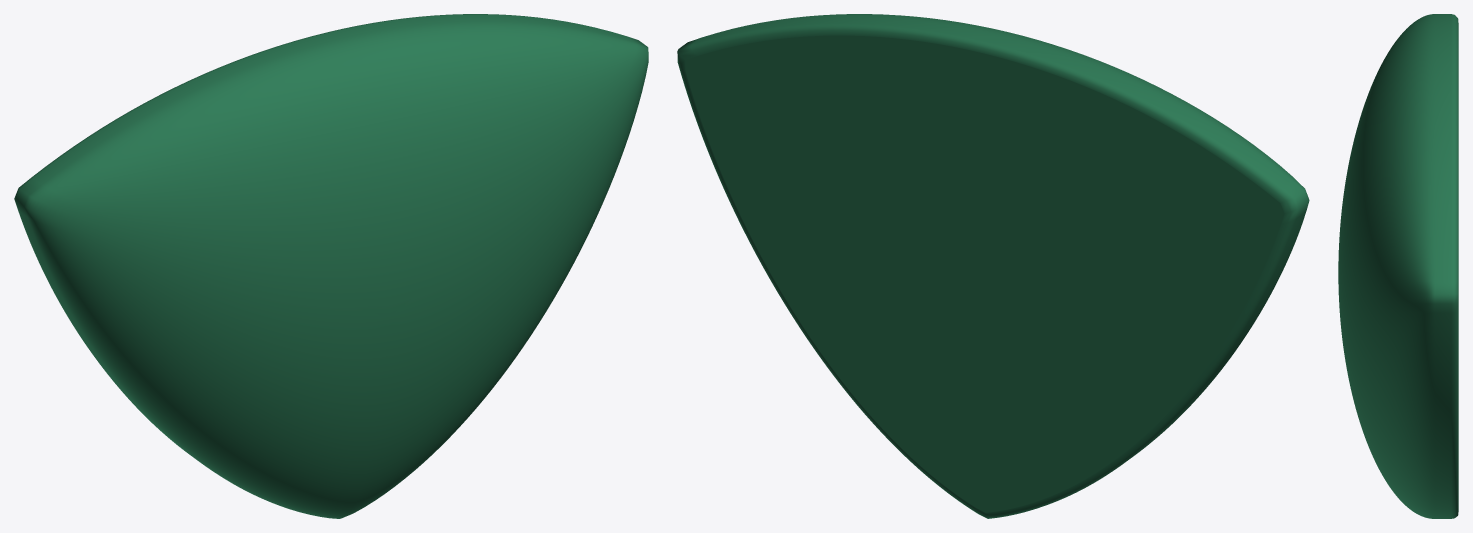
Rendered from bowed-triangle.glb.
3 renders of one model, left to right at view 1: azimuth 30°, elevation 25°; view 2: azimuth 150°, elevation 25°; view 3: azimuth 270°, elevation 25°, orthographic. The views are drawn at different scales.
Parts seen in each view (by area): view 1: Bowed-Triangle Cabochon 16x22x4mm; view 2: Bowed-Triangle Cabochon 16x22x4mm; view 3: Bowed-Triangle Cabochon 16x22x4mm.
Boxes of the visible parts, box(x1,y1,x2,y2) form: Bowed-Triangle Cabochon 16x22x4mm: box(14, 14, 648, 518); Bowed-Triangle Cabochon 16x22x4mm: box(677, 14, 1309, 518); Bowed-Triangle Cabochon 16x22x4mm: box(1338, 14, 1458, 518).
Size of the model in its own units: 0.0218 by 0.016 by 0.00398.
